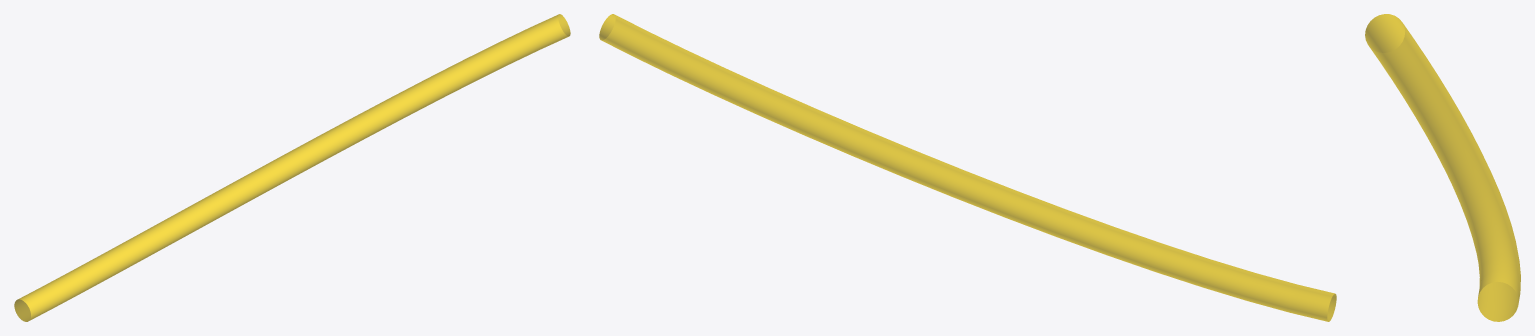
File: Event_27938768_track_52.fbx
3 views of the same model, side by side, from view 1: azimuth 30°, elevation 25°; view 2: azimuth 150°, elevation 25°; view 3: azimuth 270°, elevation 25° (orthographic). The views are drawn at different scales.
Visible parts, largest first — view 1: Model; view 2: Model; view 3: Model.
Boxes of the visible parts, box(x1,y1,x2,y2) form: Model: box(14, 14, 570, 321); Model: box(599, 14, 1336, 321); Model: box(1365, 14, 1520, 321).
Bounding box in the file's own units: 1.09 × 0.255 × 0.1515.
